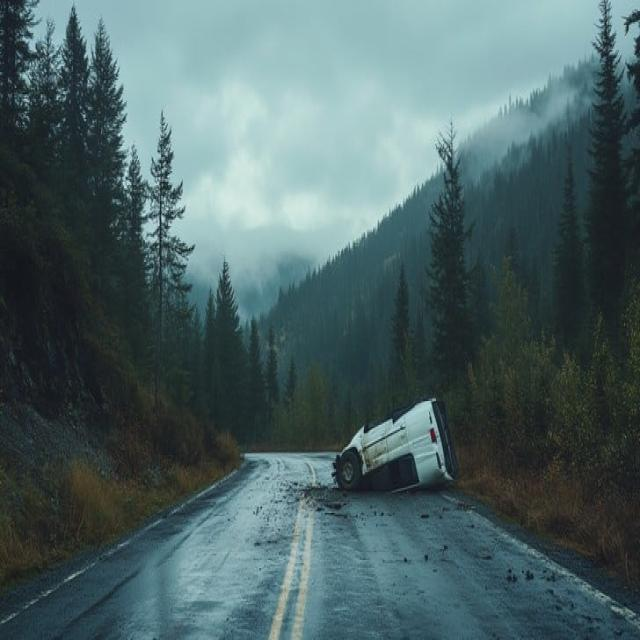Accident: (330, 386, 455, 524)
